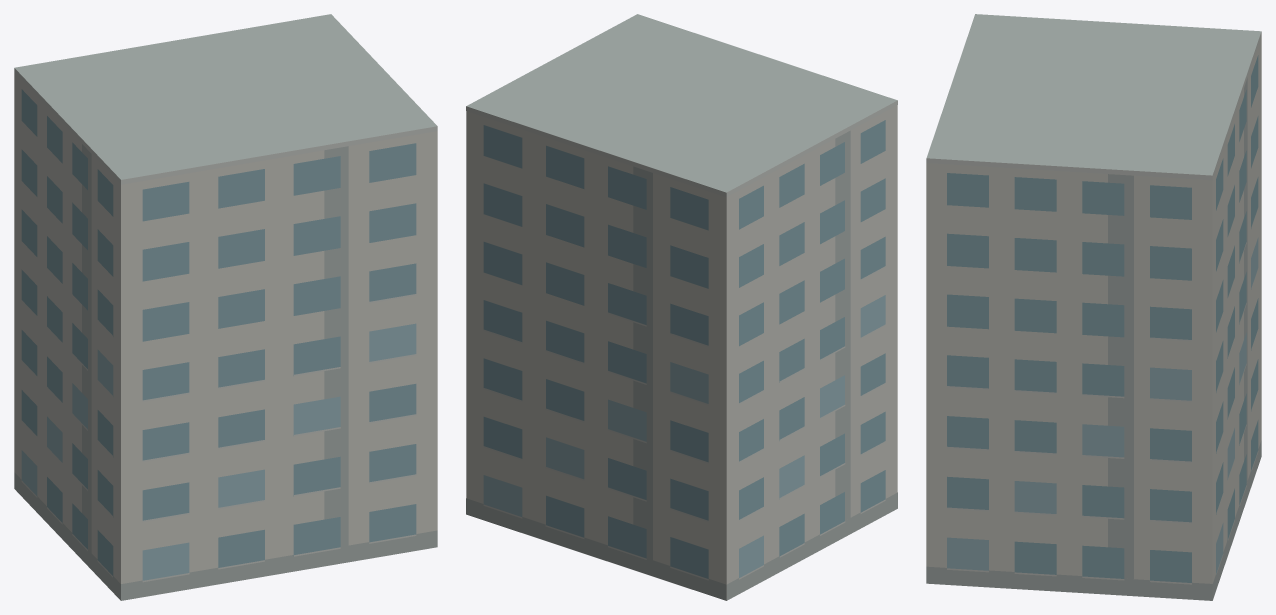
The model's file is residential-f5213262-e12d-4710-9c23-aa50b4690efe.glb.
3 renders of one model, left to right at view 1: azimuth 30°, elevation 25°; view 2: azimuth 150°, elevation 25°; view 3: azimuth 270°, elevation 25°, orthographic. The views are drawn at different scales.
Visible parts, largest first — view 1: residential-f5213262-e12d-4710-9c23-aa50b4690efe.tmp; view 2: residential-f5213262-e12d-4710-9c23-aa50b4690efe.tmp; view 3: residential-f5213262-e12d-4710-9c23-aa50b4690efe.tmp.
Boxes of the visible parts, box(x1,y1,x2,y2) form: residential-f5213262-e12d-4710-9c23-aa50b4690efe.tmp: box(14, 14, 437, 600); residential-f5213262-e12d-4710-9c23-aa50b4690efe.tmp: box(466, 14, 897, 600); residential-f5213262-e12d-4710-9c23-aa50b4690efe.tmp: box(926, 14, 1261, 600).
Size of the model in its own units: 17.4 by 21.35 by 15.25.
